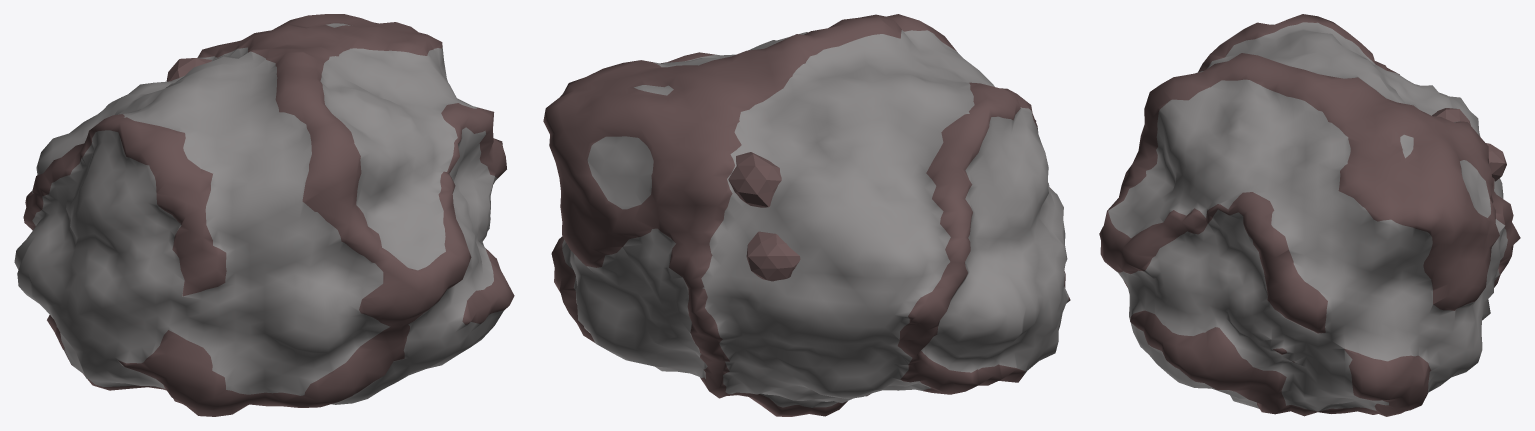
File: chromite_surface.glb
3 views of the same model, side by side, from view 1: azimuth 30°, elevation 25°; view 2: azimuth 150°, elevation 25°; view 3: azimuth 270°, elevation 25° (orthographic). The views are drawn at different scales.
Visible parts, largest first — view 1: chromite_surface; view 2: chromite_surface; view 3: chromite_surface.
Boxes of the visible parts, bbox=[...] form: chromite_surface: bbox=[14, 14, 514, 416]; chromite_surface: bbox=[543, 14, 1070, 416]; chromite_surface: bbox=[1099, 14, 1520, 416].
Size of the model in its own units: 1.49 by 1.04 by 1.25.
